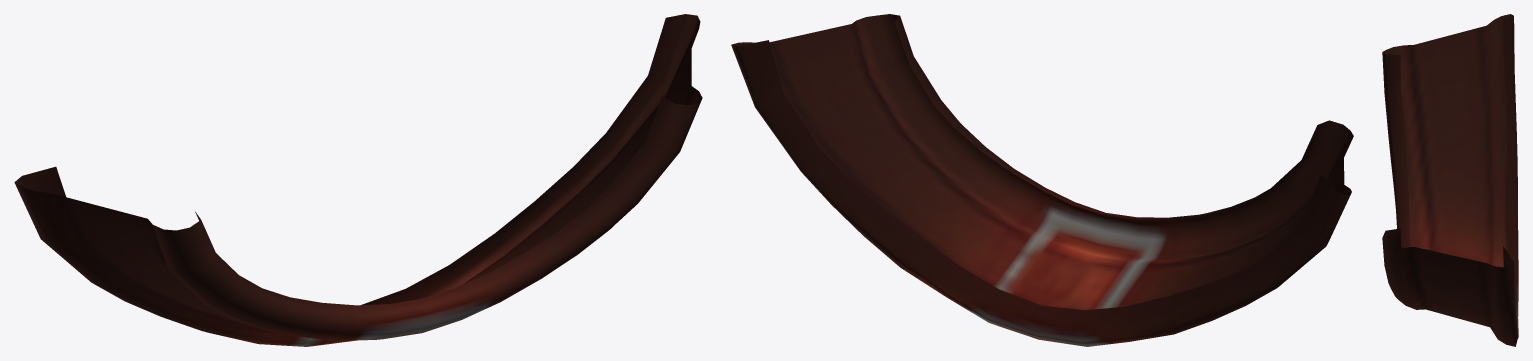
The model's file is vivi4.obj.
3 renders of one model, left to right at view 1: azimuth 30°, elevation 25°; view 2: azimuth 150°, elevation 25°; view 3: azimuth 270°, elevation 25°, orthographic. The views are drawn at different scales.
Size of the model in its own units: 0.883 by 0.3111 by 0.2007.
1 material, 1 textured.
